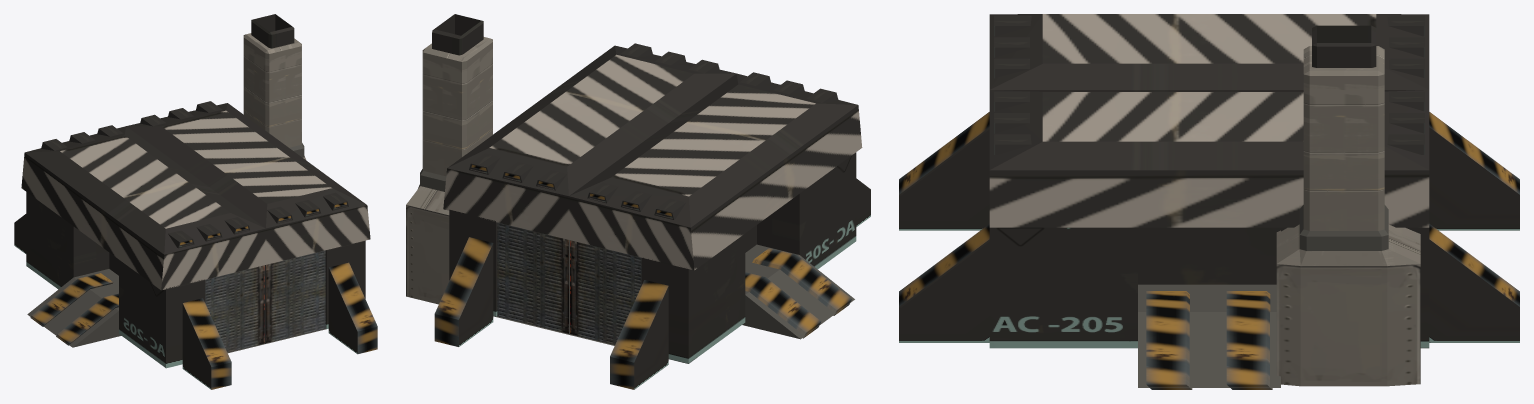
The model's file is robotic_center.dae.
3 renders of one model, left to right at view 1: azimuth 30°, elevation 25°; view 2: azimuth 150°, elevation 25°; view 3: azimuth 270°, elevation 25°, orthographic. The views are drawn at different scales.
Parts seen in each view (by area): view 1: robotic_center; view 2: robotic_center; view 3: robotic_center.
Boxes of the visible parts, left/top/right/bottom form: robotic_center: left=14, top=14, right=377, bottom=389; robotic_center: left=406, top=14, right=870, bottom=389; robotic_center: left=899, top=14, right=1519, bottom=389.
Bounding box in the file's own units: 25.36 × 29.67 × 17.74.
